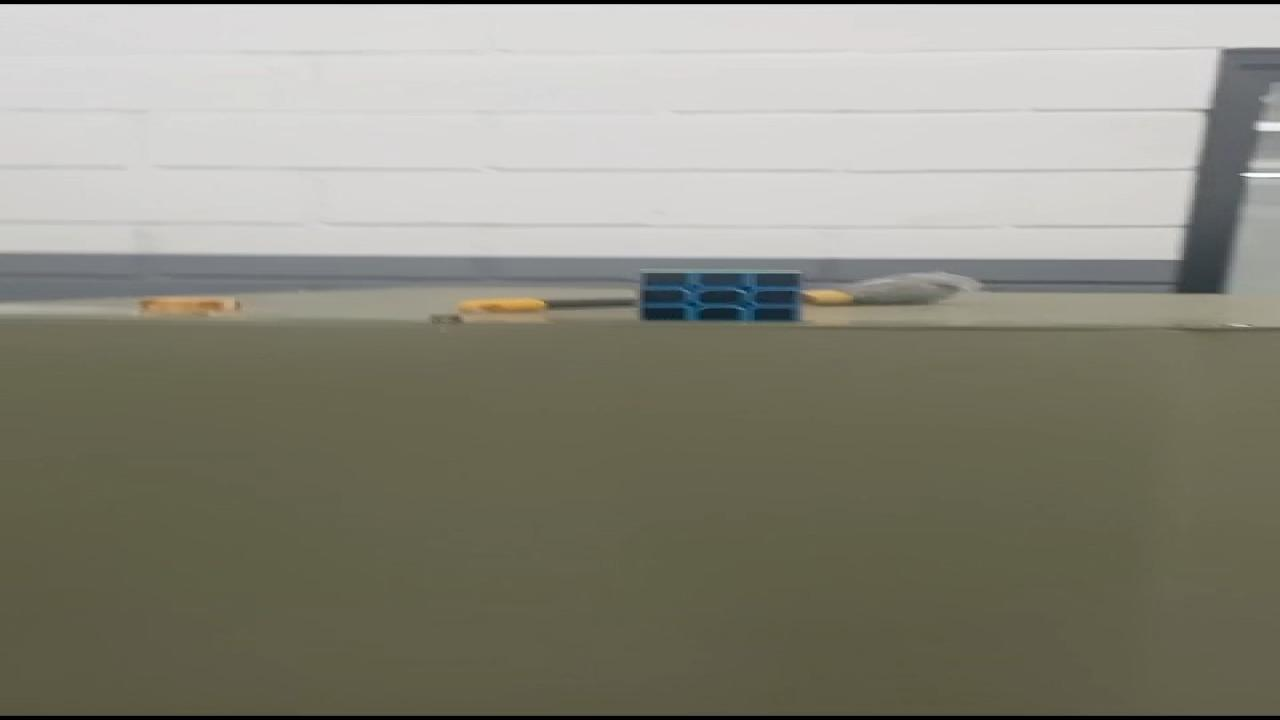Cube: (632, 268, 805, 322)
